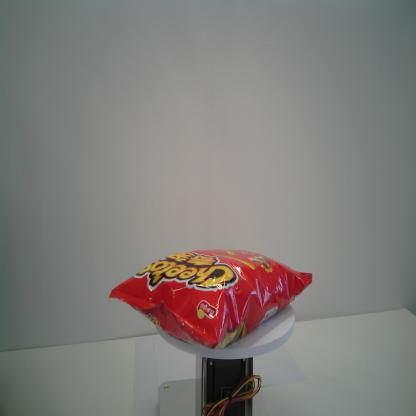Puffed Food: (108, 246, 314, 351)
